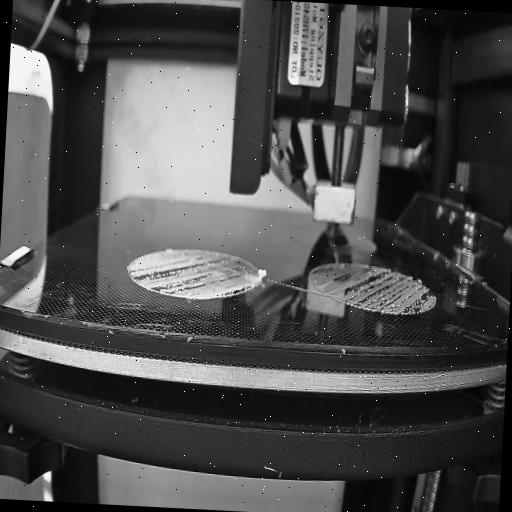under_extrusion: (128, 252, 260, 302), (330, 258, 438, 317), (308, 260, 332, 281)
